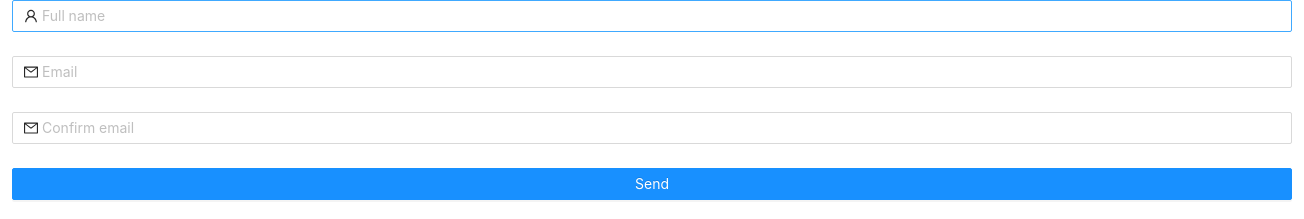
different confirm email
The image size is (1304, 219).
In the field with placeholder "Full name": x=661, y=16 [42,5,1280,27], type "test"
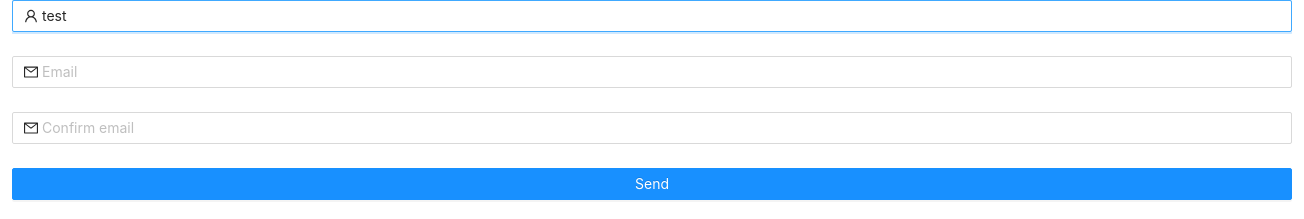
In the field with placeholder "Email": x=661, y=72 [42,61,1280,83], type "test@qq.com"
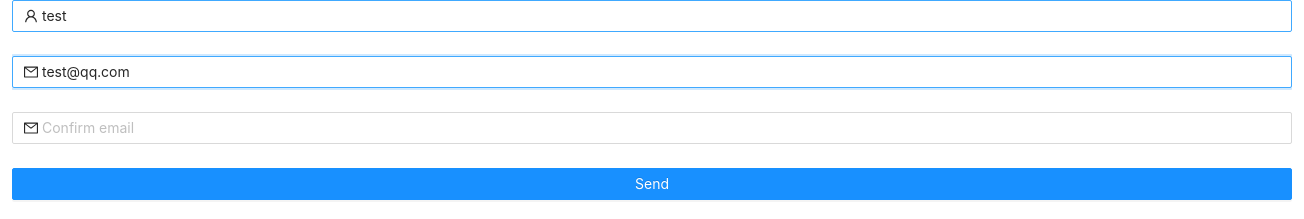
In the field with placeholder "Confirm email": x=661, y=128 [42,117,1280,139], type "test@qq.co"
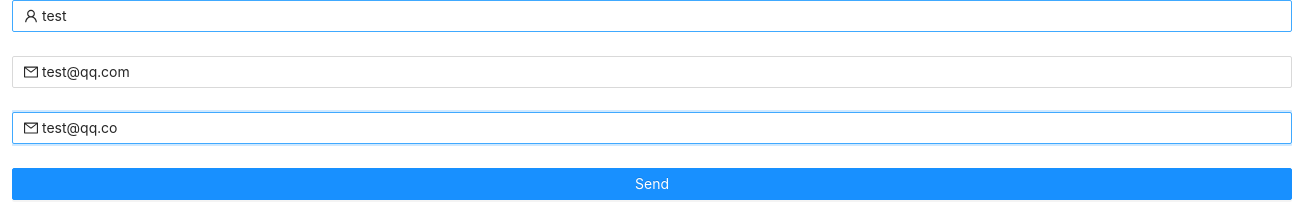
Click the button "Send": x=652, y=184 [12,168,1292,200]
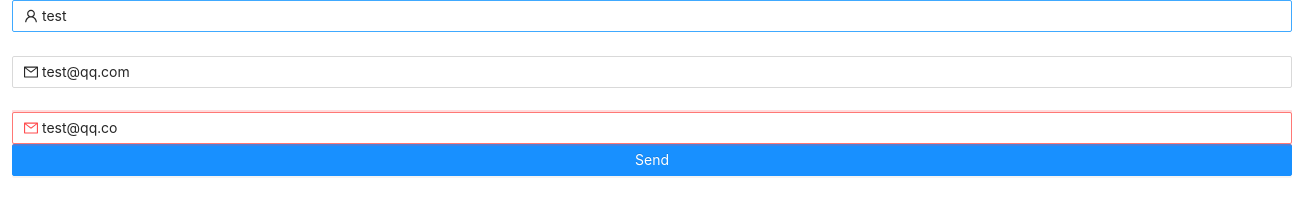
Expected: the text "Confirm Email is not the same as Email!" is shown, [12,146,270,163]
